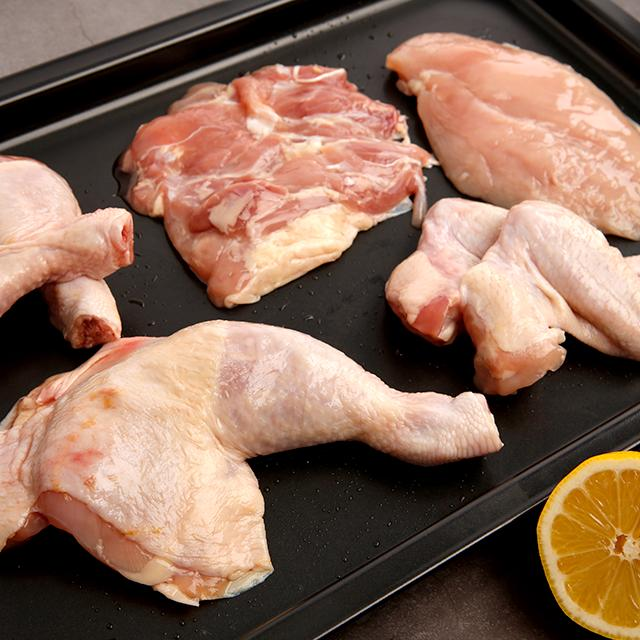chicken: (6, 309, 507, 639), (122, 58, 429, 332), (386, 22, 640, 249), (392, 190, 640, 408)
